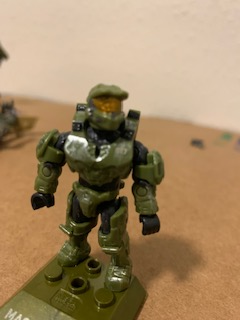chief: (31, 83, 165, 290)
spartan: (29, 81, 163, 288)
